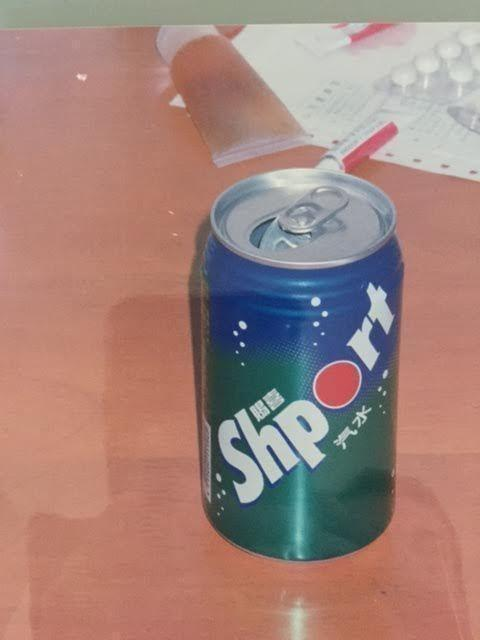tin can: (189, 169, 406, 565)
